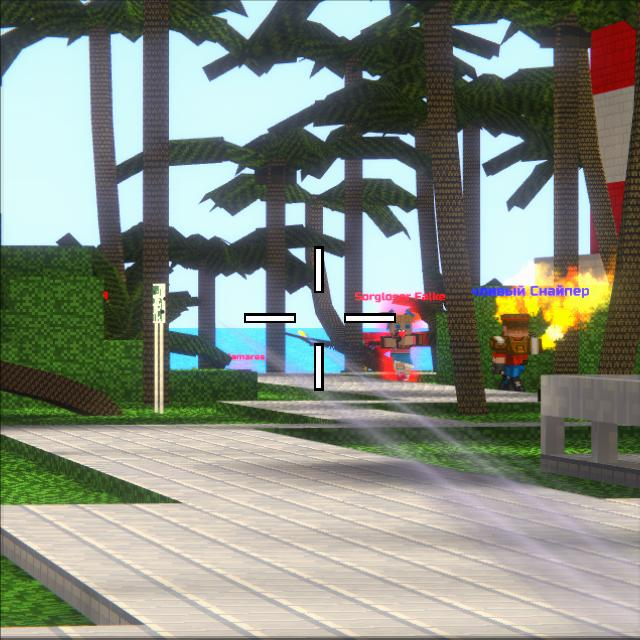Enemy: (376, 309, 422, 381)
